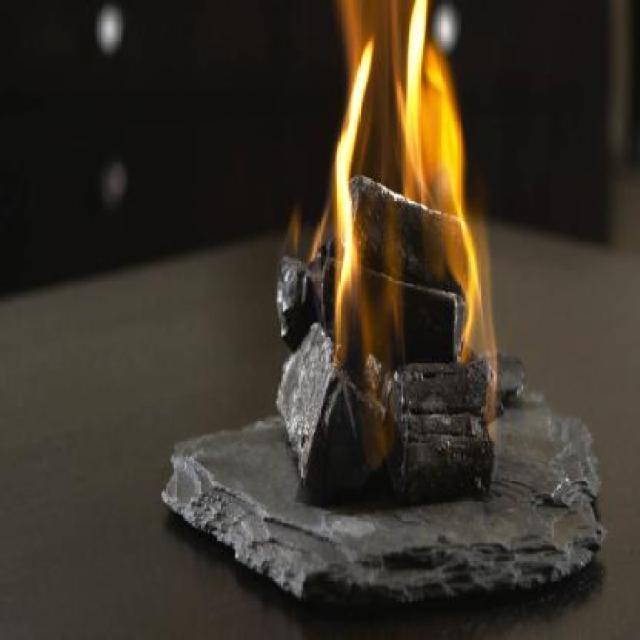Fire: (322, 0, 496, 362)
